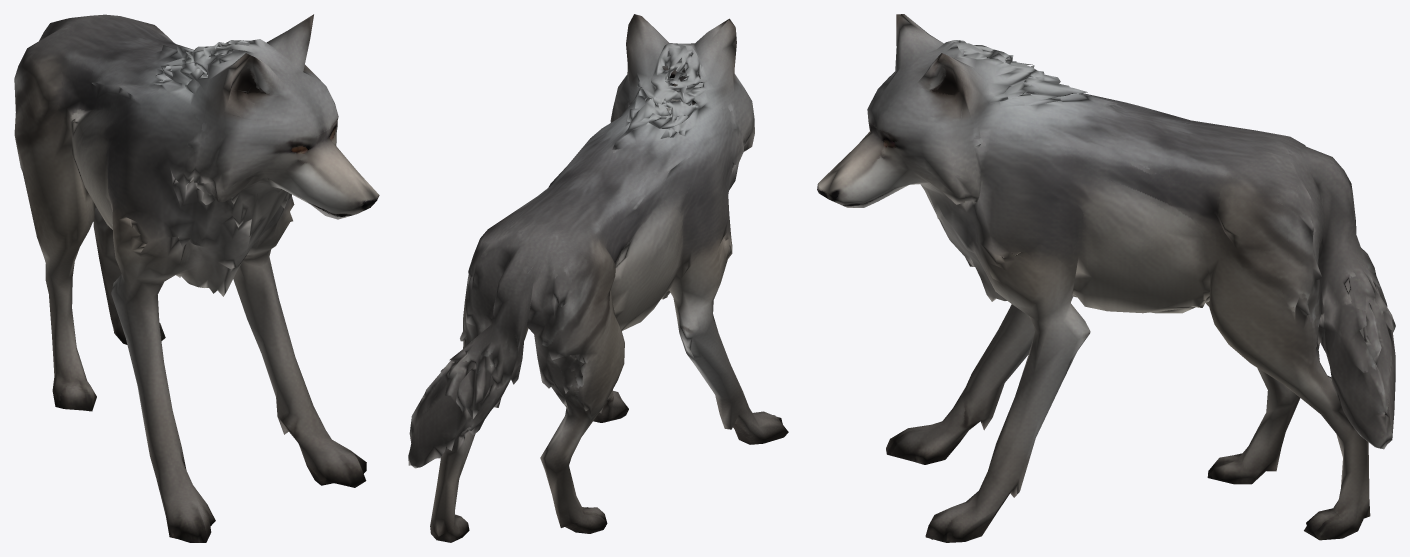
The model's file is wolf.glb.
3 views of the same model, side by side, from view 1: azimuth 30°, elevation 25°; view 2: azimuth 150°, elevation 25°; view 3: azimuth 270°, elevation 25° (orthographic). The views are drawn at different scales.
Parts seen in each view (by area): view 1: Creature; view 2: Creature; view 3: Creature.
Part boxes in pixels (x1,y1,x2,y2): Creature: [14, 14, 379, 542]; Creature: [408, 14, 788, 542]; Creature: [817, 14, 1395, 542].
Bounding box in the file's own units: 0.5496 × 1.16 × 1.3.
Materials: 1 (1 with a texture image).
